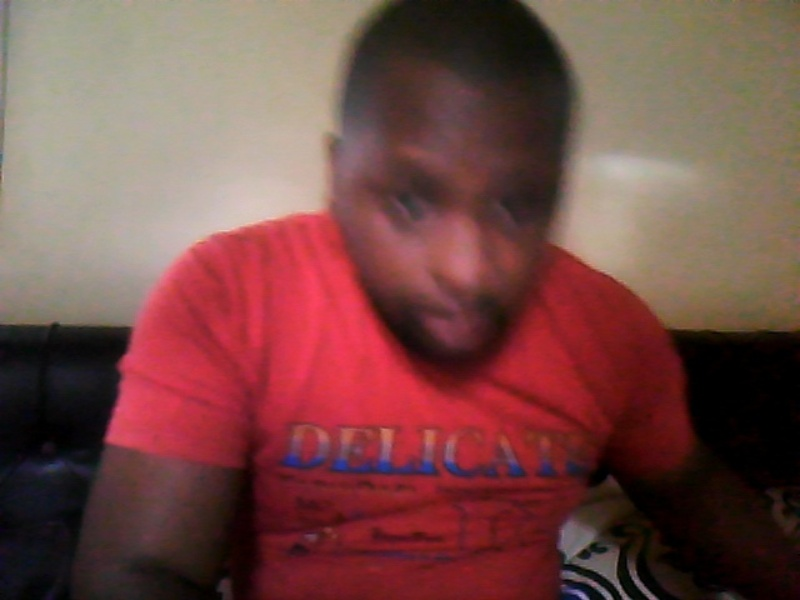TsisyArotava: (314, 13, 592, 378)
